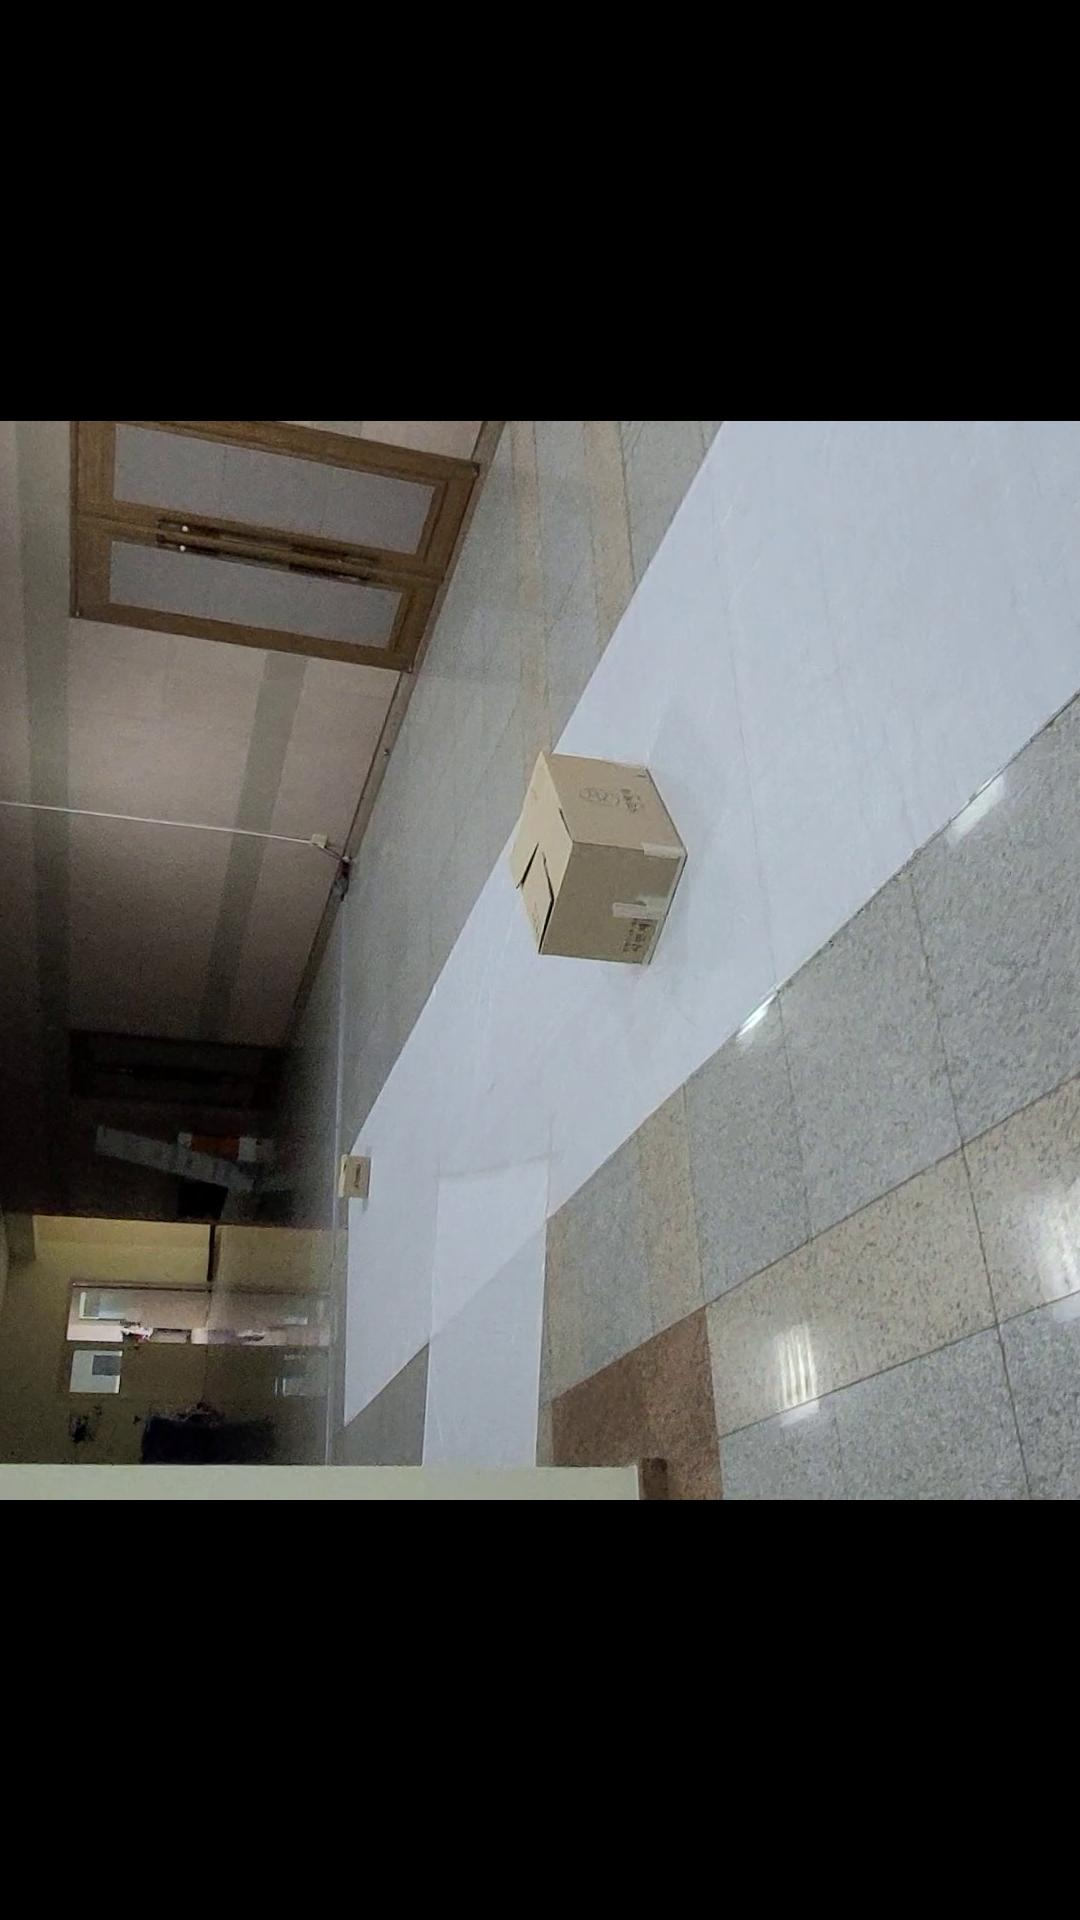Box: (485, 723, 717, 986), (295, 1142, 392, 1209)
